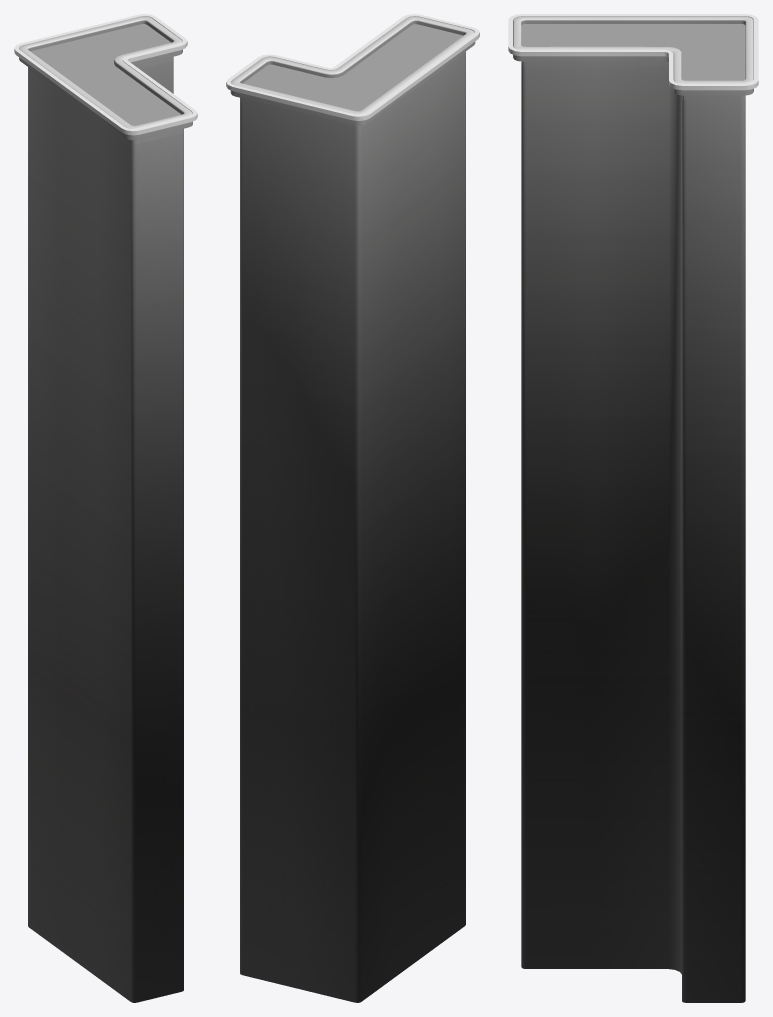
Rendered from BLOCK_3D_L3.fbx.
3 views of the same model, side by side, from view 1: azimuth 30°, elevation 25°; view 2: azimuth 150°, elevation 25°; view 3: azimuth 270°, elevation 25° (orthographic). The views are drawn at different scales.
Parts seen in each view (by area): view 1: L_4_002, L_4_002.001, OUTLINE; view 2: L_4_002, L_4_002.001, OUTLINE; view 3: L_4_002, L_4_002.001, OUTLINE.
Boxes of the visible parts, bbox=[...] form: L_4_002: bbox=[19, 16, 192, 1002]; L_4_002.001: bbox=[28, 24, 183, 144]; OUTLINE: bbox=[14, 14, 197, 135]; L_4_002: bbox=[230, 16, 475, 1002]; L_4_002.001: bbox=[240, 24, 465, 130]; OUTLINE: bbox=[226, 14, 479, 120]; L_4_002: bbox=[513, 16, 753, 1002]; L_4_002.001: bbox=[521, 24, 745, 100]; OUTLINE: bbox=[508, 14, 758, 90].
Size of the model in its own units: 212 by 1268 by 312.
